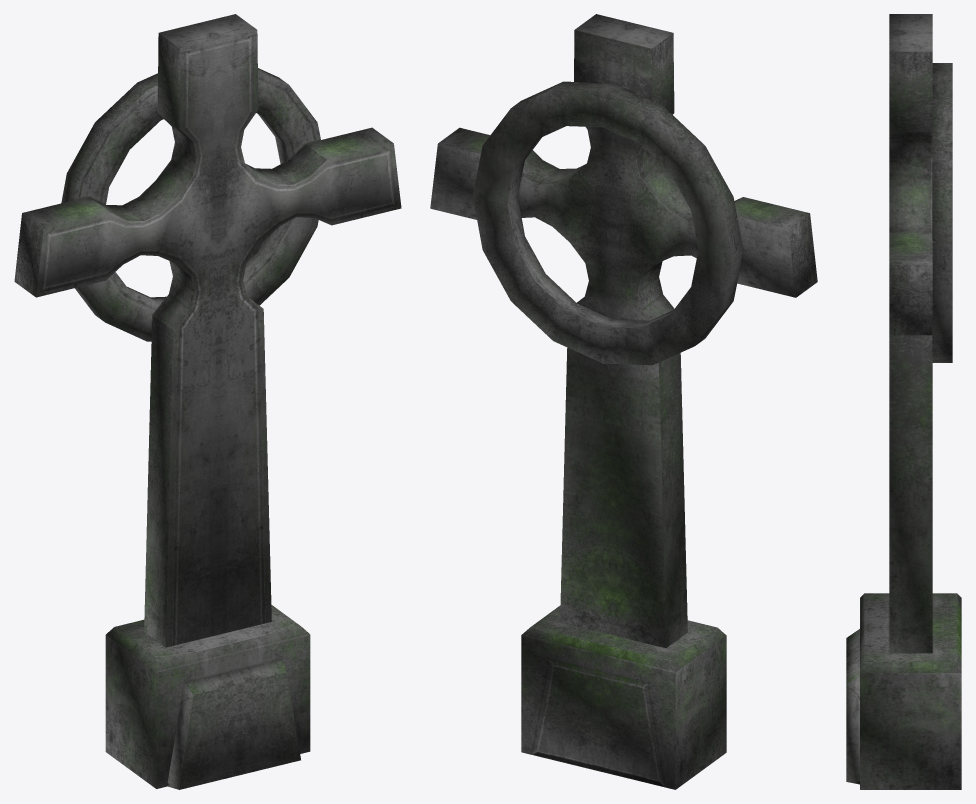
The model's file is cross2.glb.
3 views of the same model, side by side, from view 1: azimuth 30°, elevation 25°; view 2: azimuth 150°, elevation 25°; view 3: azimuth 270°, elevation 25° (orthographic).
Parts seen in each view (by area): view 1: defaultMaterial.002; view 2: defaultMaterial.002; view 3: defaultMaterial.002.
Part boxes in pixels (x1,y1,x2,y2): defaultMaterial.002: [14, 14, 401, 789]; defaultMaterial.002: [430, 14, 817, 789]; defaultMaterial.002: [846, 14, 961, 789].
Size of the model in its own units: 1.06 by 2 by 0.2906.
1 material, 1 textured.
